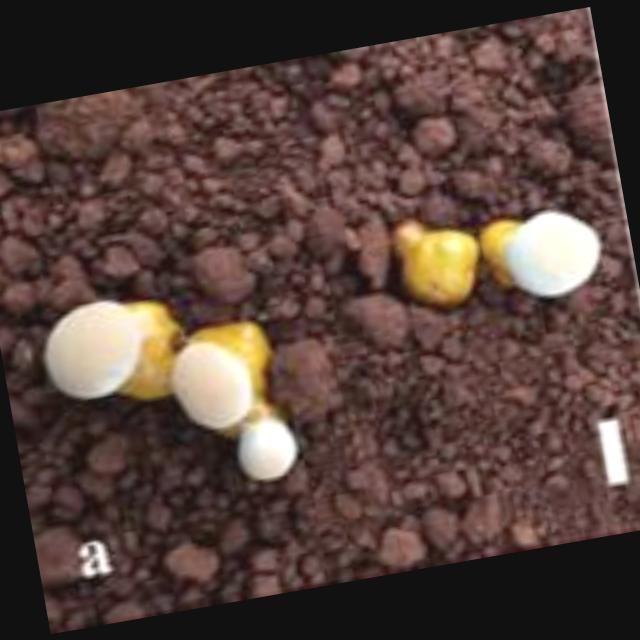primordium: (35, 287, 183, 420), (478, 199, 614, 312), (164, 333, 259, 438), (232, 411, 307, 491)
